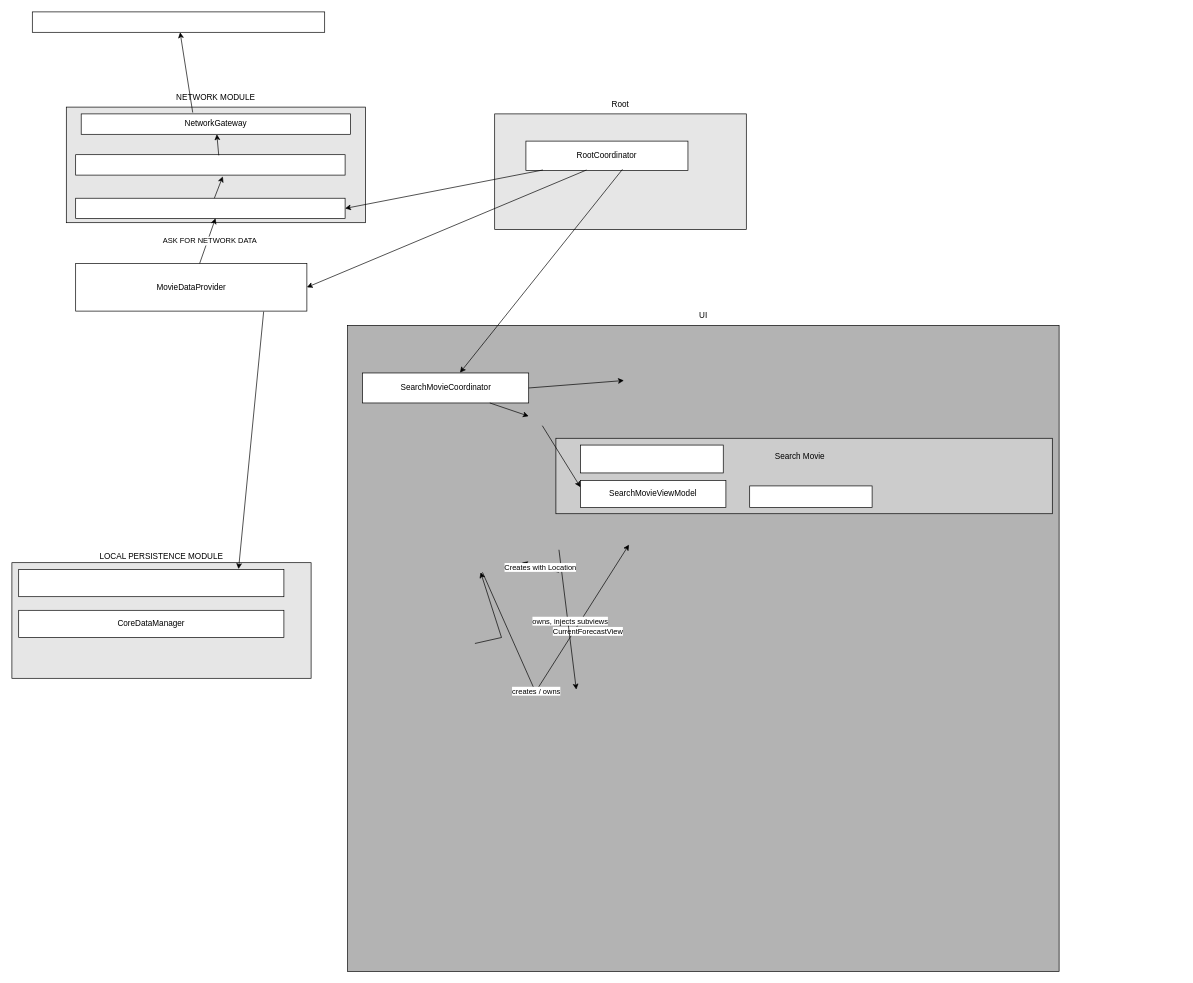
Some shapes in this 1193 by 983 pixel diagram are drawn without their labels. The centre of each missing label's shape, as x and y in pixels:
API: the point at 178,21
LocalDataBridge: the point at 151,583
MovieData: the point at 810,496
MovieNetworkClient: the point at 210,208
SearchMovieViewController: the point at 651,458
TMDBNetworkClient: the point at 210,164
